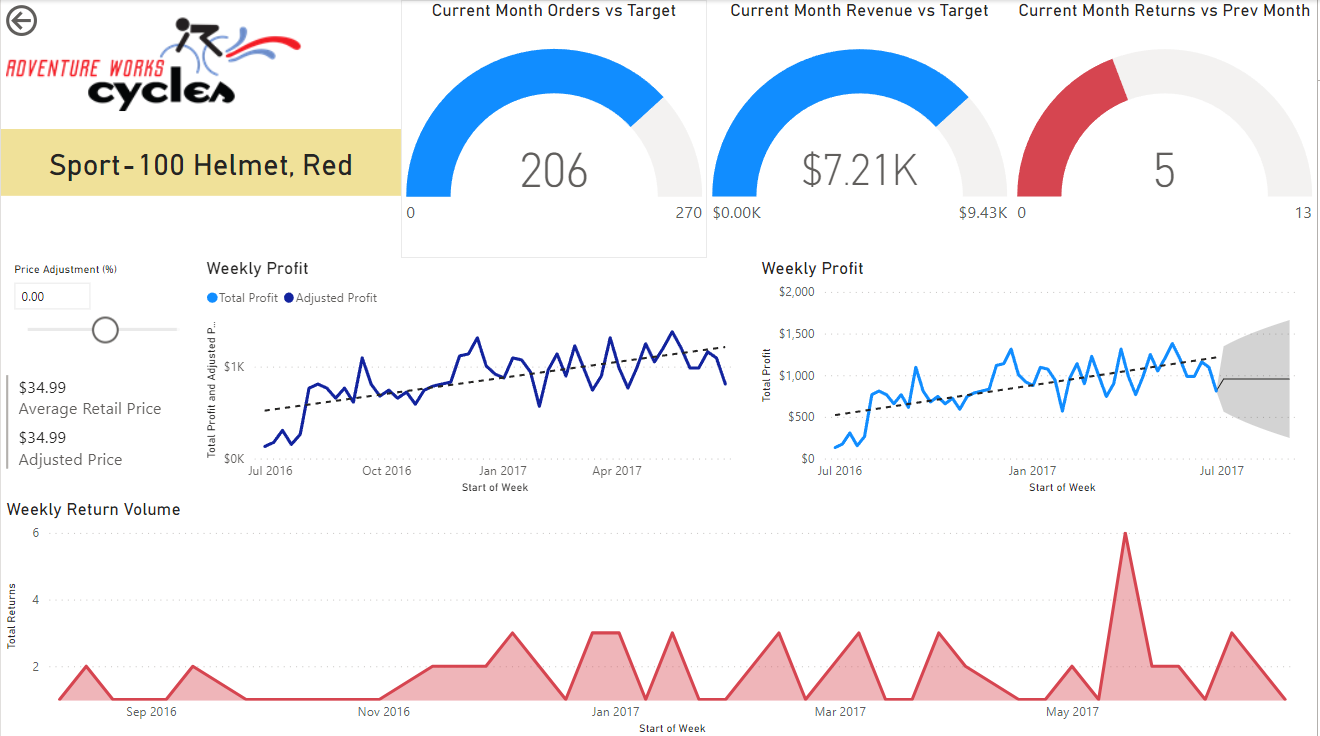

The page's visual inventory and layout, read from the dashboard file:
{"tool":"powerbi","page":{"name":"Product Detail","canvas":[1280,720],"ordinal":1},"visuals":[{"type":"image","box":[0,0,300,125],"z":0},{"type":"lineChart","title":"Weekly Profit","fields":{"Y":["AW_Sales.Total Profit"],"Category":["AW_Calendar_Lookup.Start of Week"]},"box":[734.1,251,545.9,234.2],"z":1000},{"type":"stackedAreaChart","title":"Weekly Return Volume","fields":{"Category":["AW_Calendar_Lookup.Start of Week"],"Y":["AW_Returns.Total Returns"]},"box":[0,485.6,1280,234.4],"z":2000},{"type":"gauge","title":"Current Month Orders vs Target","fields":{"Y":["AW_Sales.Total Orders"],"MaxValue":["AW_Sales.Order Target"]},"box":[389.1,0,297.6,250.9],"z":3000},{"type":"gauge","title":"Current Month Revenue vs Target","fields":{"Y":["AW_Sales.Total Revenue"],"MaxValue":["AW_Sales.Revenue Target"]},"box":[686.7,0,296.7,250.9],"z":4000},{"type":"gauge","title":"Current Month Returns vs Prev Month","fields":{"Y":["AW_Returns.Total Returns"],"MaxValue":["AW_Returns.Prev Month Returns"]},"box":[983.3,0,296.7,250.9],"z":5000},{"type":"card","fields":{"Values":["Min(AW_Product_Lookup.ProductName)"]},"box":[0,125.5,389.1,65.2],"z":6000},{"type":"actionButton","box":[0,0,100,40],"z":7000},{"type":"slicer","fields":{"Values":["Price Adjustment (%).Price Adjustment (%)"]},"box":[0,251,194.5,117.1],"z":8000},{"type":"multiRowCard","fields":{"Values":["AW_Product_Lookup.Average Retail Price","AW_Product_Lookup.Adjusted Price"]},"box":[0,359.7,194.5,125.5],"z":9000},{"type":"lineChart","title":"Weekly Profit","fields":{"Category":["AW_Calendar_Lookup.Start of Week"],"Y":["AW_Sales.Total Profit","AW_Sales.Adjusted Profit"]},"box":[194.5,251,539.6,234.2],"z":10000}]}

Visuals, with their boxes in screenshot pixels (x1, y1, x2, y2), scaled from the page's 1280x720 canvas onto the 1320x736 screenshot:
image: x1=0, y1=0, x2=309, y2=128
"Weekly Profit" lineChart: x1=757, y1=257, x2=1319, y2=496
"Weekly Return Volume" stackedAreaChart: x1=0, y1=496, x2=1319, y2=735
"Current Month Orders vs Target" gauge: x1=401, y1=0, x2=708, y2=256
"Current Month Revenue vs Target" gauge: x1=708, y1=0, x2=1014, y2=256
"Current Month Returns vs Prev Month" gauge: x1=1014, y1=0, x2=1319, y2=256
card - Min(AW_Product_Lookup.ProductName): x1=0, y1=128, x2=401, y2=195
actionButton: x1=0, y1=0, x2=103, y2=41
slicer - Price Adjustment (%).Price Adjustment (%): x1=0, y1=257, x2=201, y2=376
multiRowCard - AW_Product_Lookup.Average Retail Price x AW_Product_Lookup.Adjusted Price: x1=0, y1=368, x2=201, y2=496
"Weekly Profit" lineChart: x1=201, y1=257, x2=757, y2=496
